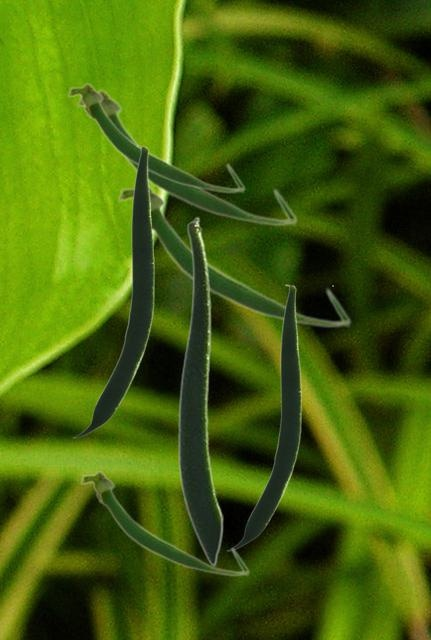french_bean: (116, 183, 351, 328), (75, 87, 297, 226), (72, 145, 153, 437), (66, 81, 245, 193), (226, 284, 300, 550), (79, 469, 249, 576), (177, 216, 223, 566)
